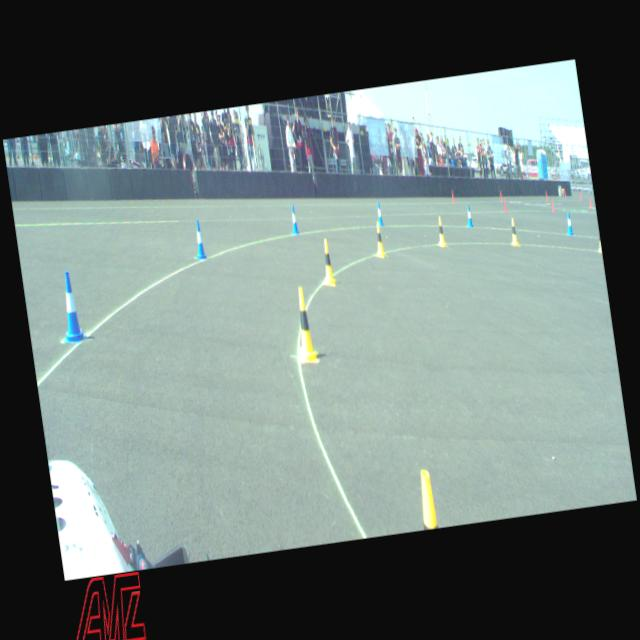blue_cone: (54, 270, 88, 346), (192, 220, 207, 261), (288, 204, 298, 233), (464, 205, 474, 228), (564, 212, 574, 235), (376, 202, 384, 226)
unknown_cone: (551, 198, 556, 212), (502, 198, 507, 212), (450, 190, 454, 202), (588, 197, 592, 208), (499, 190, 503, 201), (545, 190, 548, 200), (579, 190, 582, 200), (564, 188, 567, 196)
yellow_cone: (290, 287, 318, 363), (318, 238, 337, 286), (372, 222, 386, 258), (435, 216, 447, 247), (508, 218, 518, 246)
